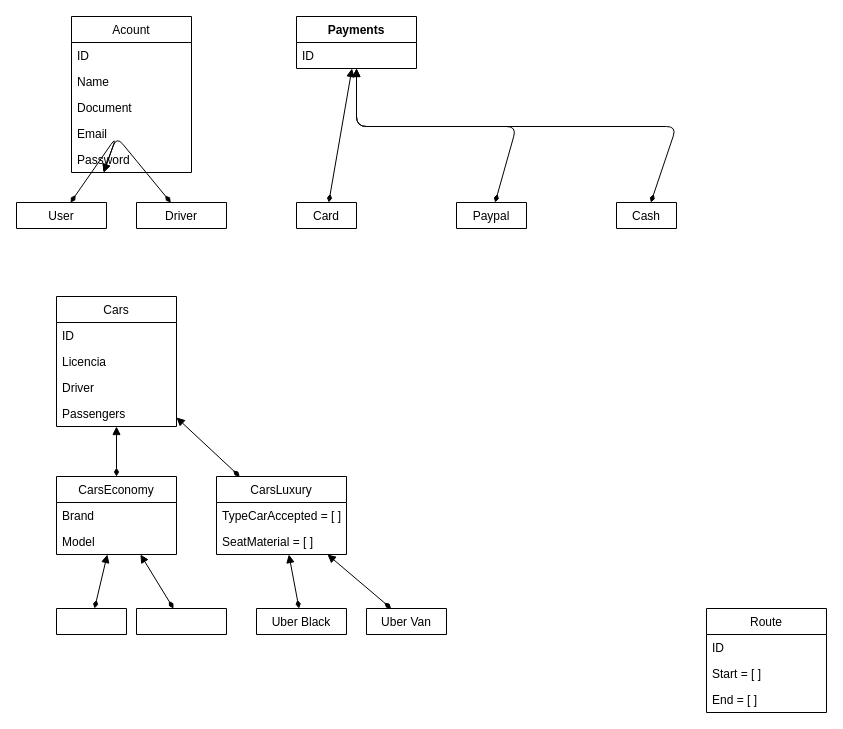
Some shapes in this 843 by 729 pixel diagram are drawn without their labels. Each missing label, with the centre of its shape:
Uber Pool: the point at 181,621
Uber X: the point at 91,621
